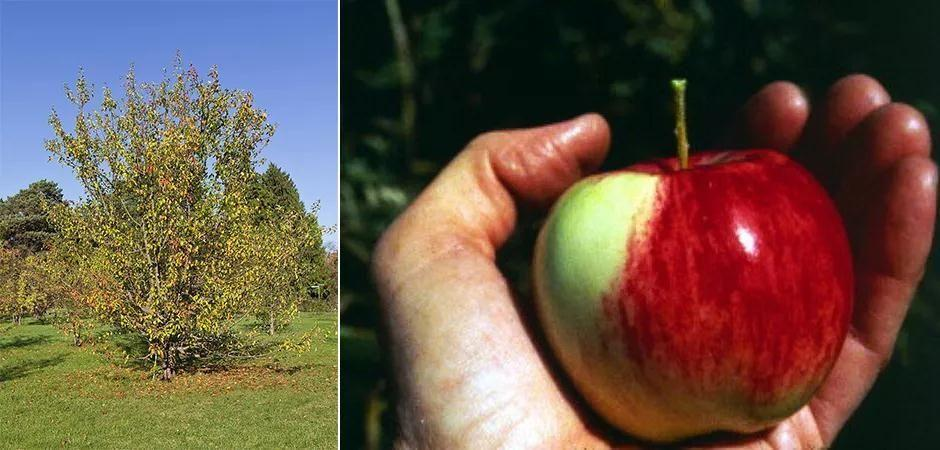apple: (533, 146, 857, 445)
